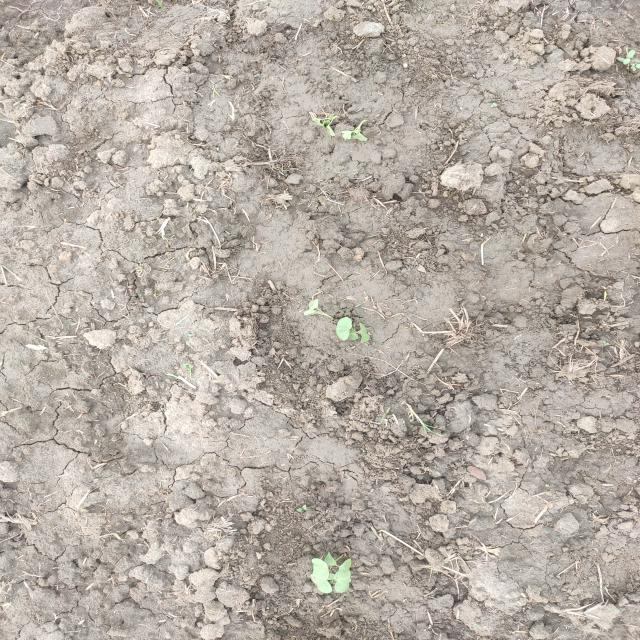seedling_s4: (310, 574, 332, 593), (312, 558, 330, 580), (335, 570, 352, 593), (336, 317, 352, 341), (338, 558, 352, 580), (359, 322, 370, 343), (304, 300, 318, 315), (353, 130, 367, 142), (341, 130, 356, 141), (327, 126, 334, 136)
